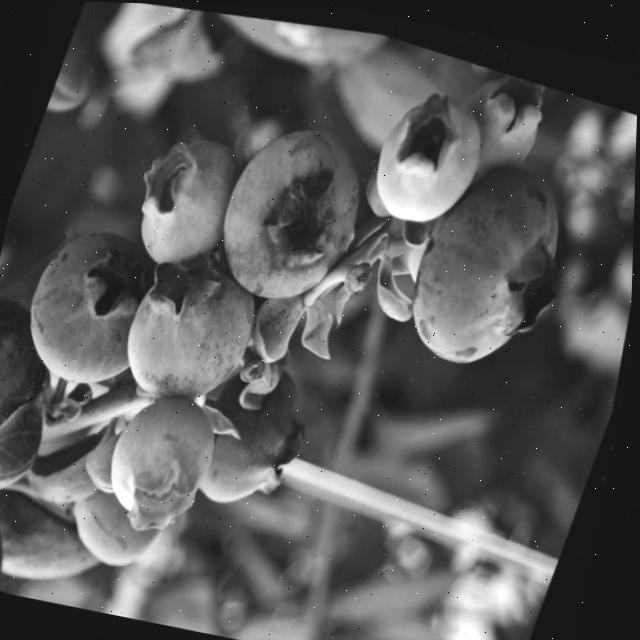RipeBlueBerry: (383, 127, 606, 398), (0, 275, 79, 461)
Semi-RipeBlueBerry: (4, 197, 182, 402), (180, 336, 332, 527)
UnripeBlueBerry: (195, 91, 396, 325), (107, 230, 283, 421), (87, 366, 239, 545)
